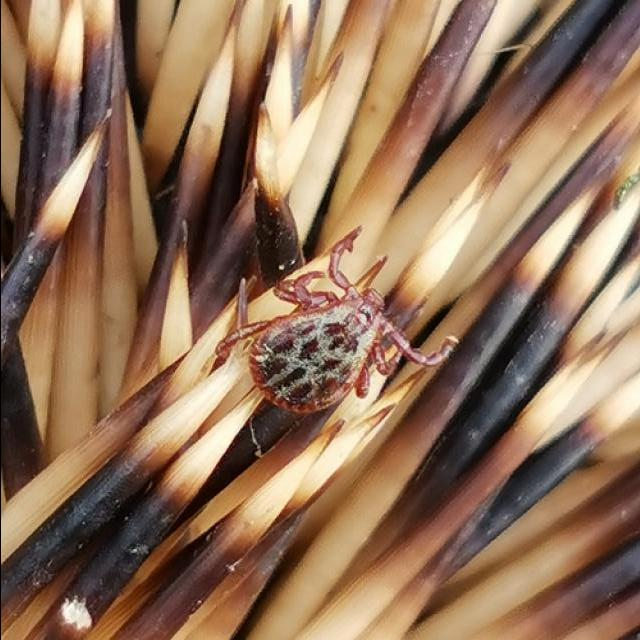Dermacentor Reticulatus-M: (224, 226, 456, 415)
